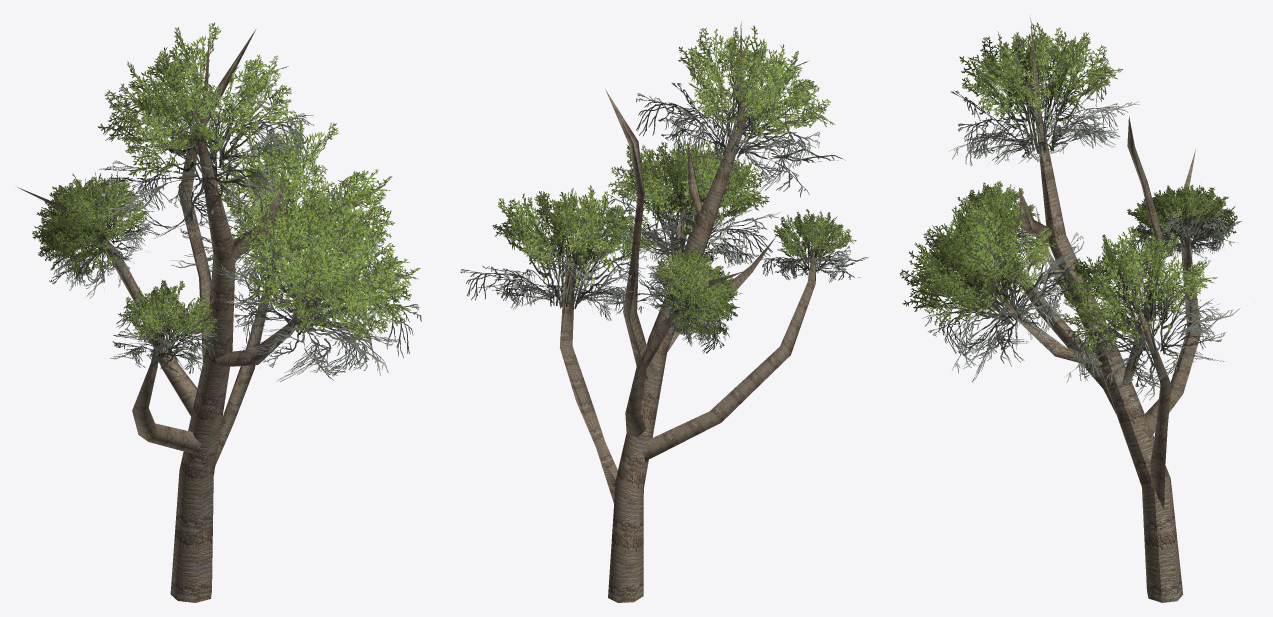
File: prehistoric_tree_01.glb
The picture shows the model from 3 angles, left to right: view 1: azimuth 30°, elevation 25°; view 2: azimuth 150°, elevation 25°; view 3: azimuth 270°, elevation 25°; orthographic projection. The views are drawn at different scales.
Parts seen in each view (by area): view 1: Object_3, Object_2; view 2: Object_3, Object_2; view 3: Object_3, Object_2.
Boxes of the visible parts, x1,y1,x2,y2 form: Object_3: (32,22,421,381); Object_2: (17,29,337,602); Object_3: (460,25,868,353); Object_2: (559,22,818,602); Object_3: (899,22,1241,402); Object_2: (967,15,1201,602).
Bounding box in the file's own units: 22.39 × 37.67 × 22.17.
Materials: 2 (2 with a texture image).
